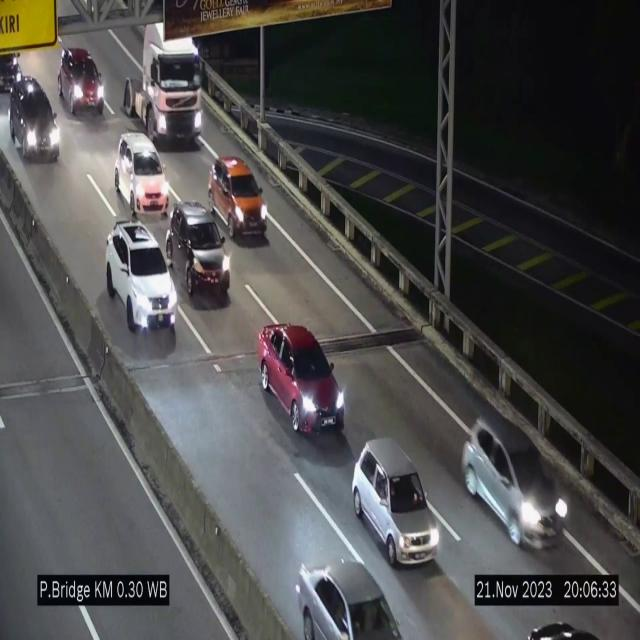Car: (460, 413, 570, 551), (352, 438, 440, 566), (258, 323, 346, 449), (302, 535, 392, 640), (106, 221, 178, 335), (164, 210, 234, 304), (3, 76, 65, 164), (209, 155, 267, 242), (116, 133, 170, 216), (57, 42, 109, 121)
Truck: (120, 22, 208, 143)
